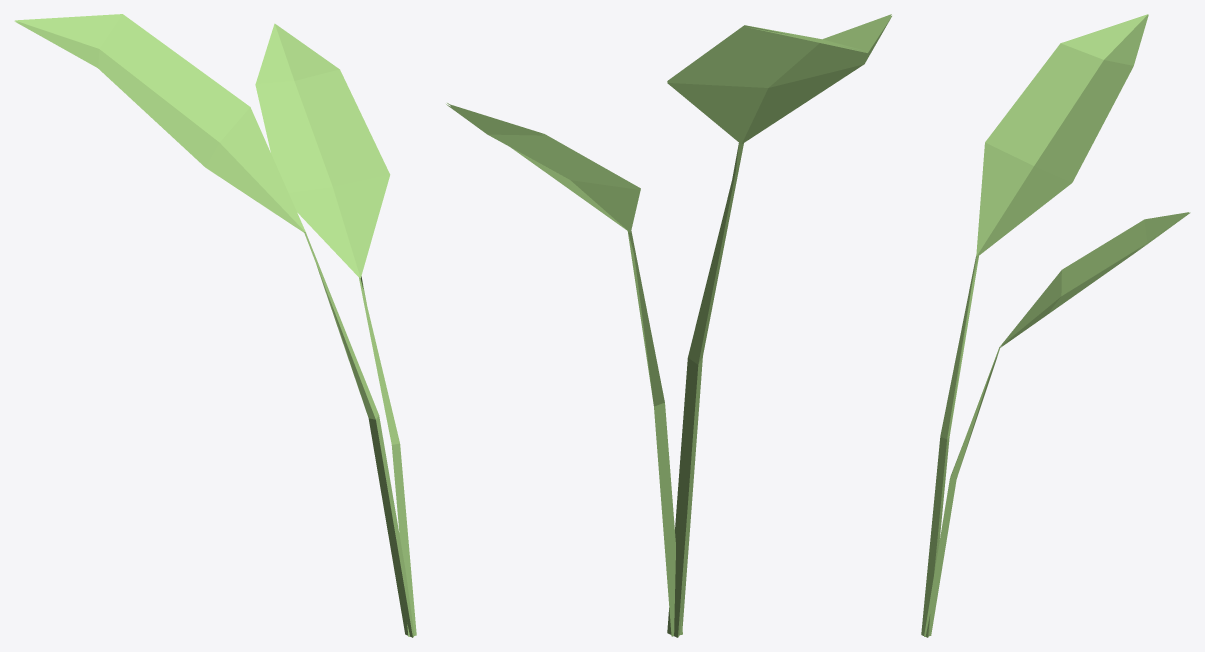
Rendered from Plant_j_TwoS_02.fbx.
3 views of the same model, side by side, from view 1: azimuth 30°, elevation 25°; view 2: azimuth 150°, elevation 25°; view 3: azimuth 270°, elevation 25° (orthographic). The views are drawn at different scales.
Visible parts, largest first — view 1: Plant_j_TwoS_02; view 2: Plant_j_TwoS_02; view 3: Plant_j_TwoS_02.
Part boxes in pixels (x1=…): Plant_j_TwoS_02: x1=14, y1=14, x2=416, y2=637; Plant_j_TwoS_02: x1=446, y1=14, x2=891, y2=637; Plant_j_TwoS_02: x1=921, y1=14, x2=1190, y2=637.
Bounding box in the file's own units: 0.3011 × 0.53 × 0.2549.
